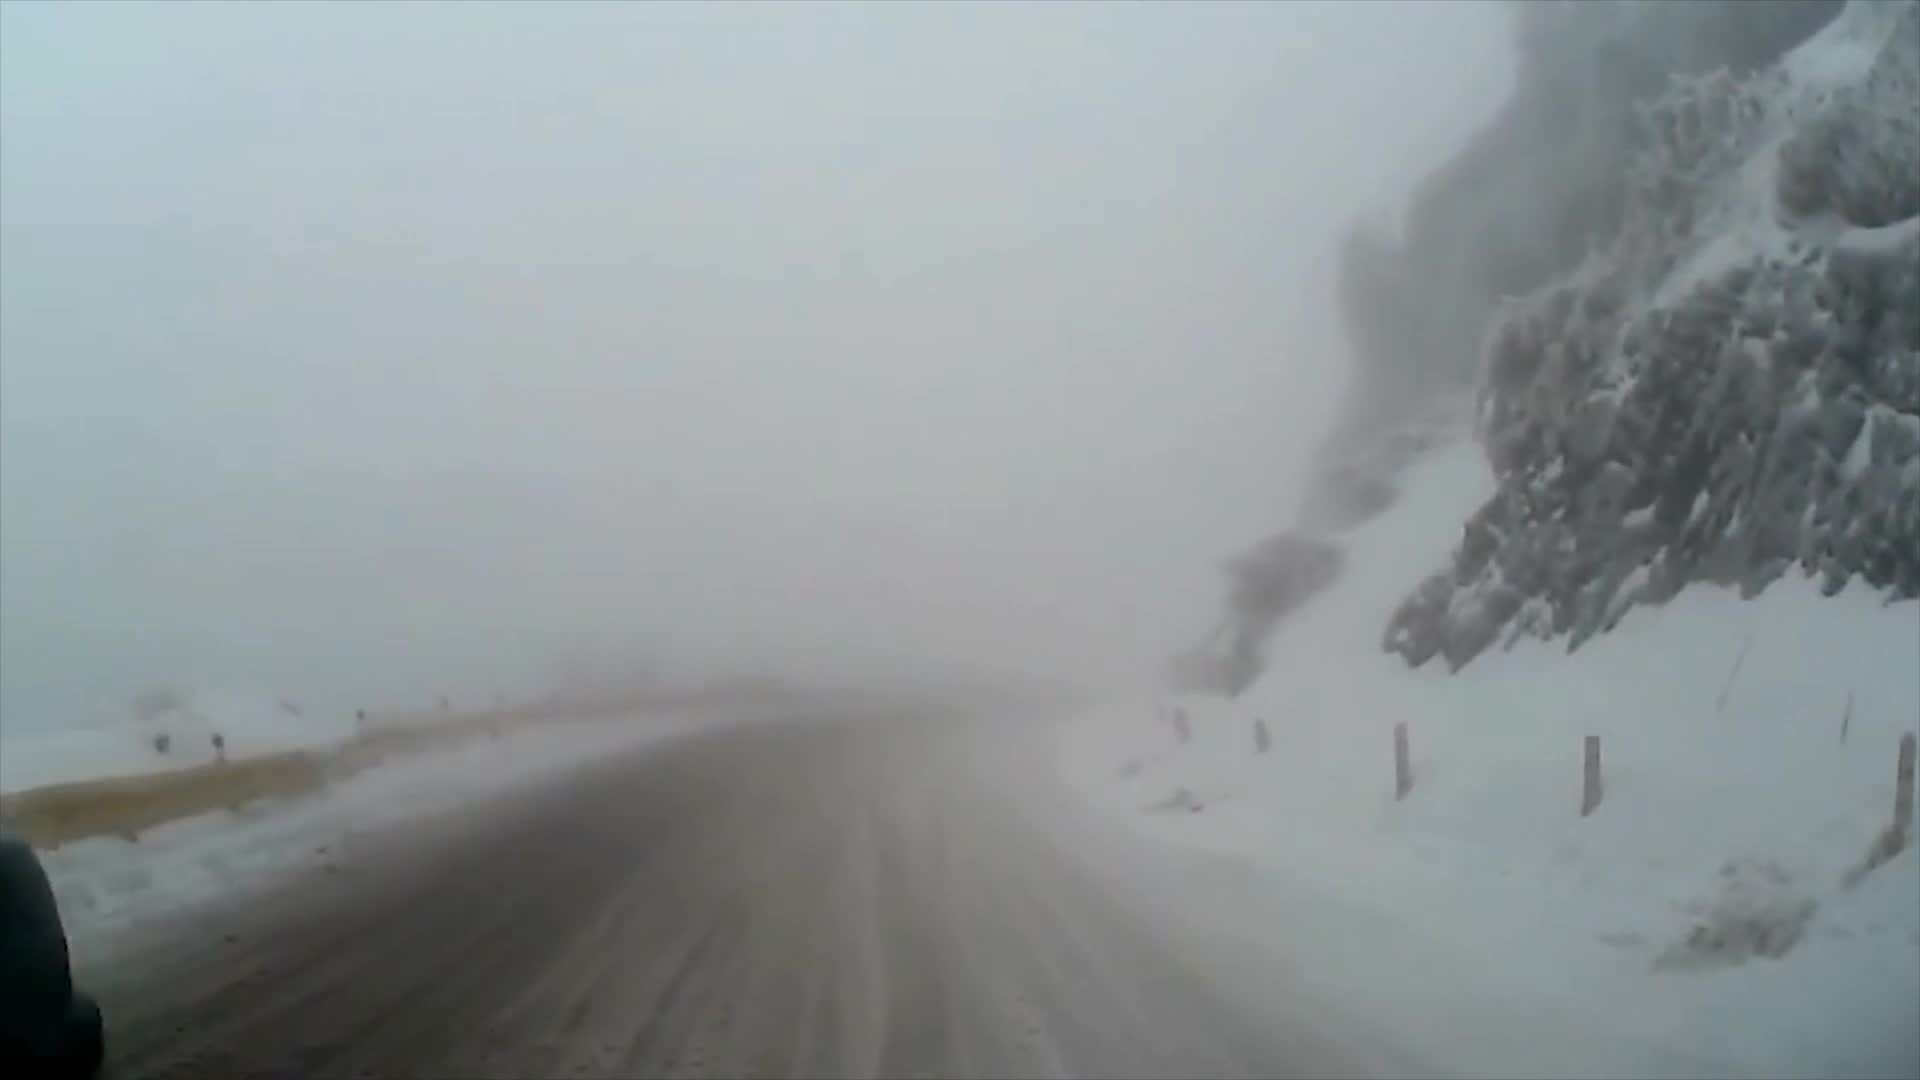vehicle: (0, 840, 102, 1079)
